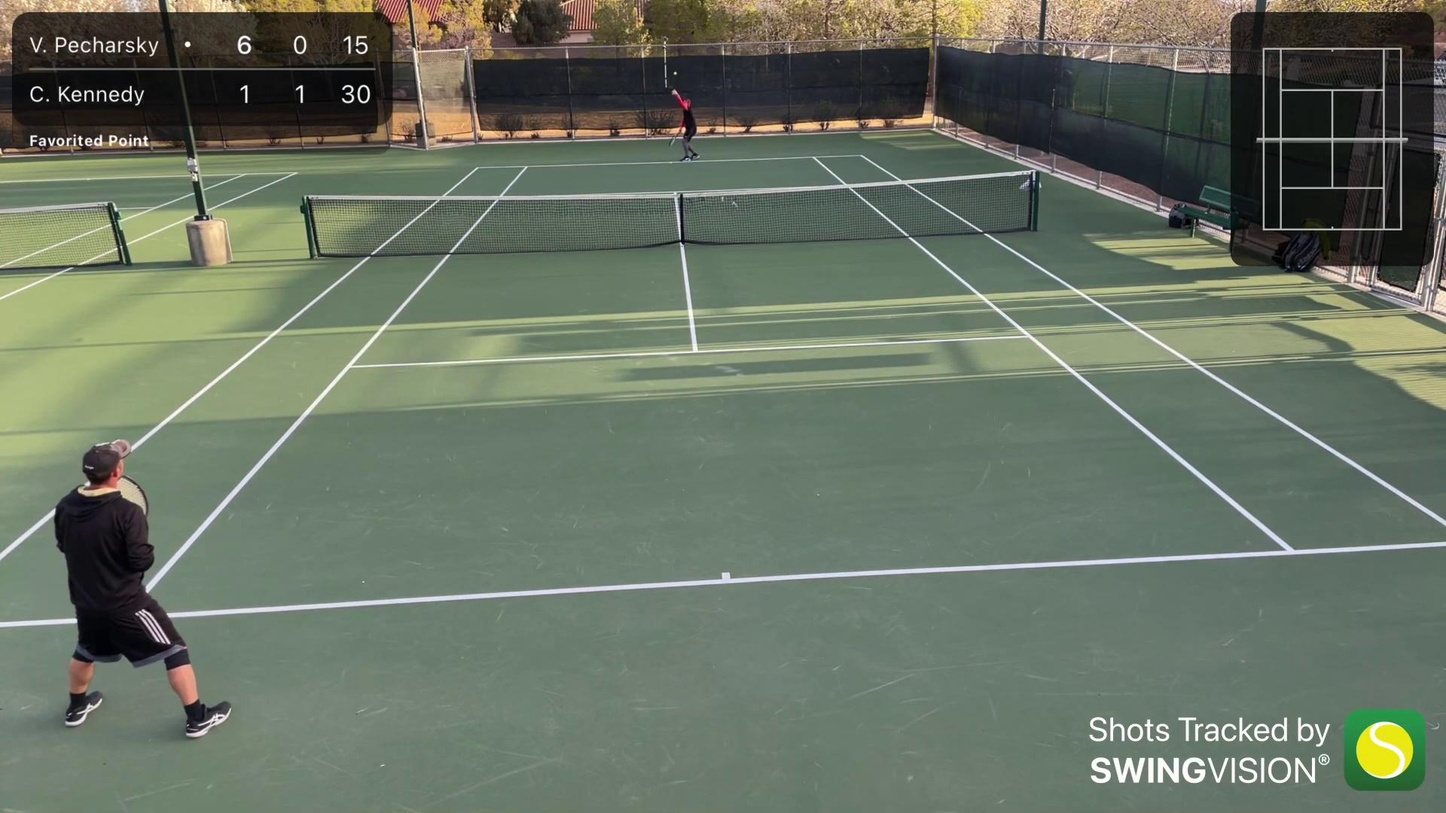ball: (672, 69, 679, 75)
